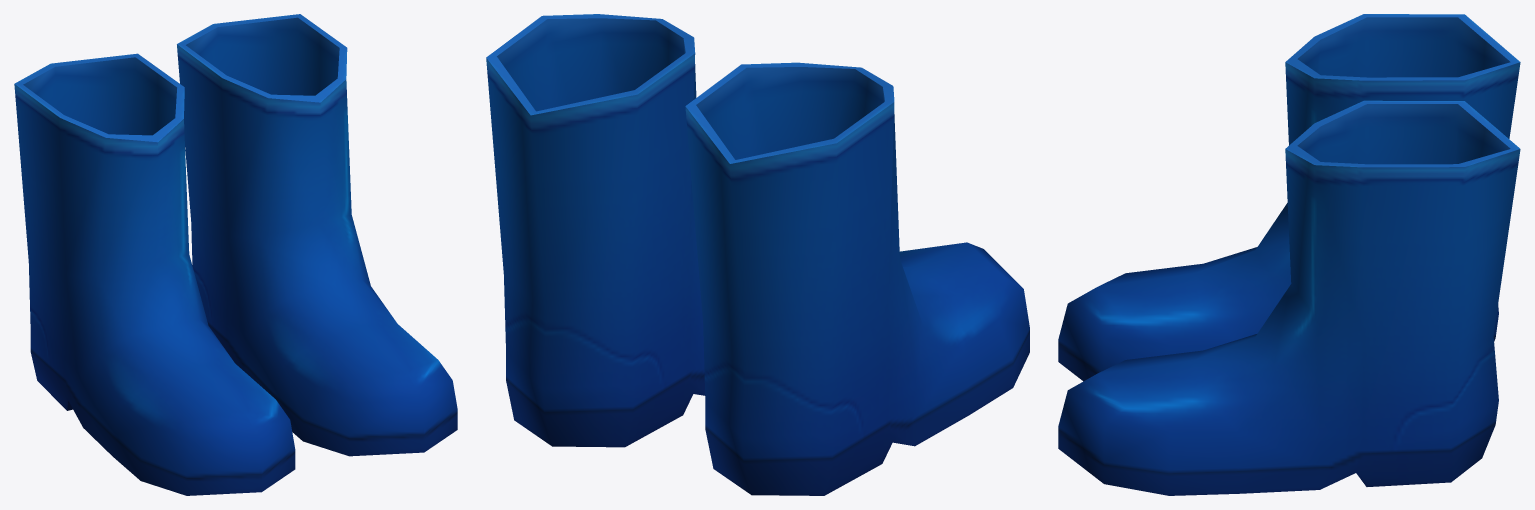
Rendered from set_rainboots_03.fbx.
3 views of the same model, side by side, from view 1: azimuth 30°, elevation 25°; view 2: azimuth 150°, elevation 25°; view 3: azimuth 270°, elevation 25° (orthographic). The views are drawn at different scales.
Visible parts, largest first — view 1: rainboots_03_R, rainboots_03_L; view 2: rainboots_03_R, rainboots_03_L; view 3: rainboots_03_L, rainboots_03_R.
Boxes of the visible parts, left/top/right/bottom form: rainboots_03_R: left=14, top=53, right=295, bottom=495; rainboots_03_L: left=177, top=14, right=457, bottom=456; rainboots_03_R: left=685, top=62, right=1029, bottom=495; rainboots_03_L: left=486, top=14, right=705, bottom=447; rainboots_03_L: left=1058, top=100, right=1520, bottom=495; rainboots_03_R: left=1058, top=14, right=1520, bottom=381.
Size of the model in its own units: 20.89 by 19.47 by 25.15.
